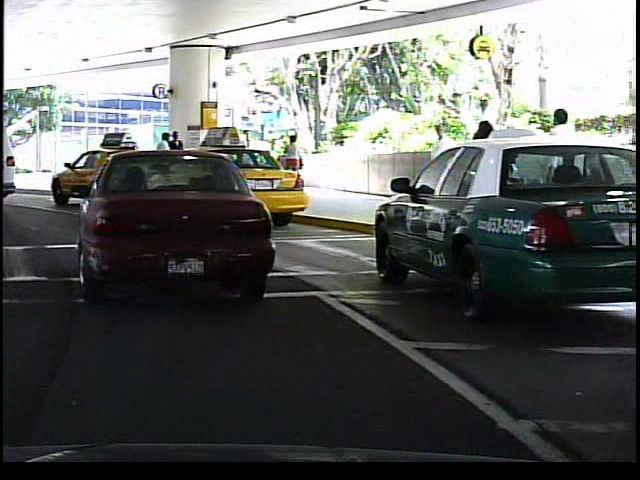person: (467, 110, 516, 236), (539, 102, 583, 235), (424, 118, 460, 211), (234, 124, 259, 189), (280, 131, 305, 191), (153, 131, 175, 189), (167, 129, 186, 190)
